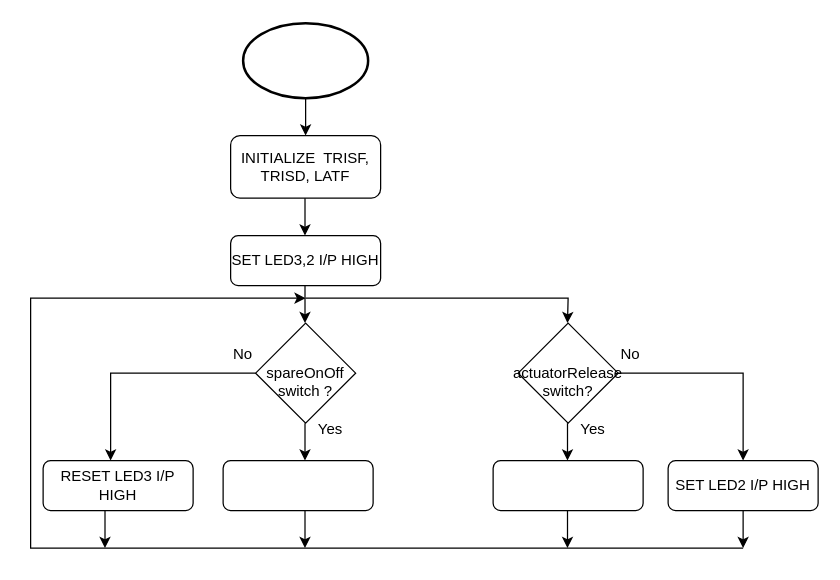
This 840x580 diagram has some shape labels left out. Each missing label, with the centre of its shape:
"RESET LED3 I/P LOW" belongs at (297,485).
"SET LED2 I/P LOW" belongs at (567,485).
"START" belongs at (305,60).
